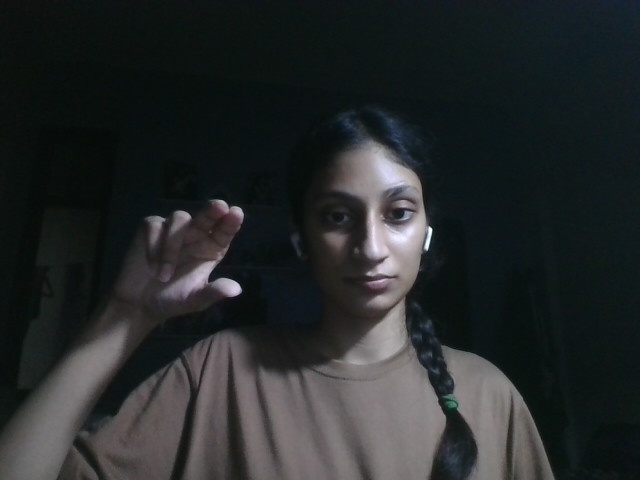no: (122, 201, 259, 315)
